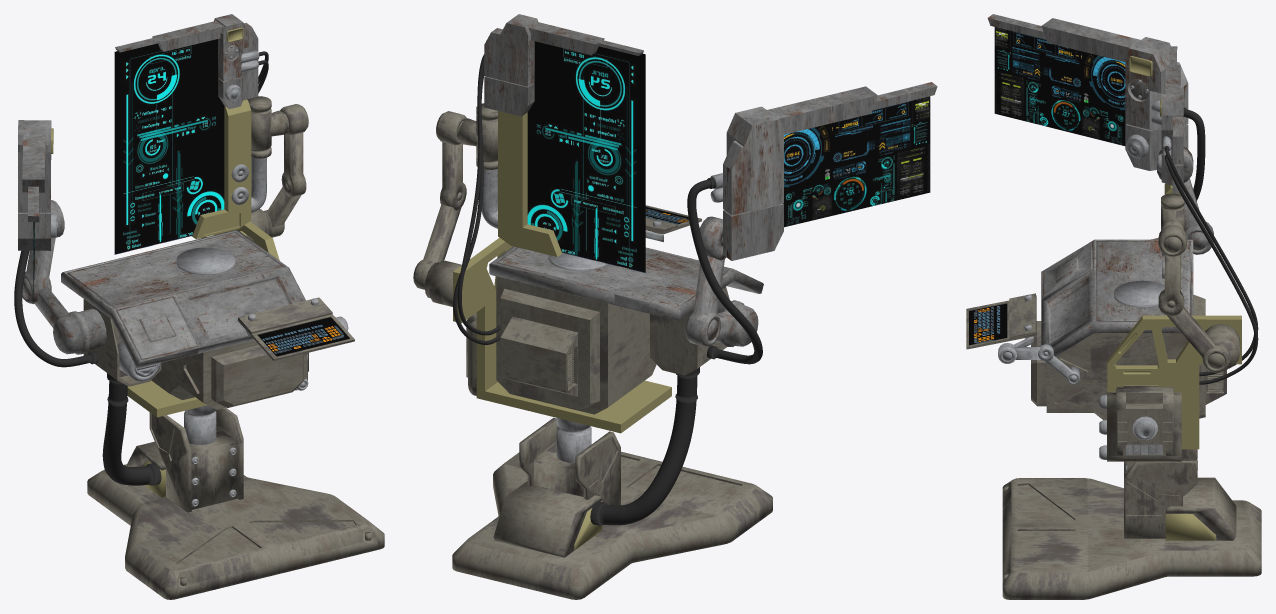
Rendered from sci-fi.glb.
3 renders of one model, left to right at view 1: azimuth 30°, elevation 25°; view 2: azimuth 150°, elevation 25°; view 3: azimuth 270°, elevation 25°, orthographic. The views are drawn at different scales.
Parts seen in each view (by area): view 1: PC; view 2: PC; view 3: PC.
Part boxes in pixels (left/top/right/bottom): PC: left=14, top=14, right=384, bottom=599; PC: left=413, top=14, right=937, bottom=599; PC: left=966, top=14, right=1261, bottom=599.
Size of the model in its own units: 9.05 by 11.34 by 6.49.
8 materials, 6 textured.
